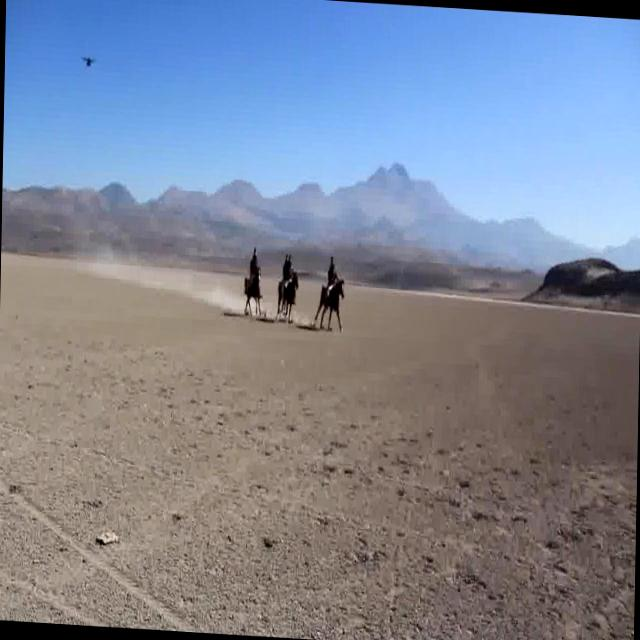drone: (82, 51, 99, 74)
